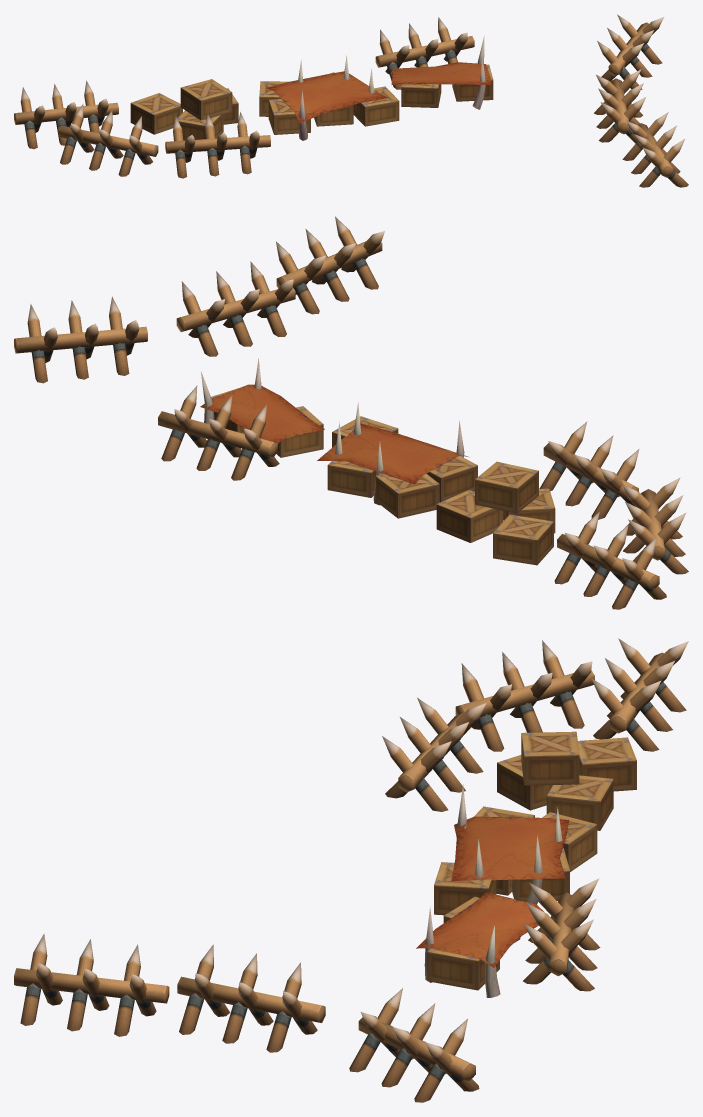
File: area_03_19.fbx
The picture shows the model from 3 angles, top to bottom: view 1: azimuth 30°, elevation 25°; view 2: azimuth 150°, elevation 25°; view 3: azimuth 270°, elevation 25°; orthographic projection. The views are drawn at different scales.
Parts seen in each view (by area): view 1: area_03_19; view 2: area_03_19; view 3: area_03_19.
Part boxes in pixels (bbox=[...]): area_03_19: bbox=[14, 14, 688, 187]; area_03_19: bbox=[14, 216, 688, 609]; area_03_19: bbox=[14, 638, 688, 1102].
Bounding box in the file's own units: 32.99 × 2.9 × 22.7.
